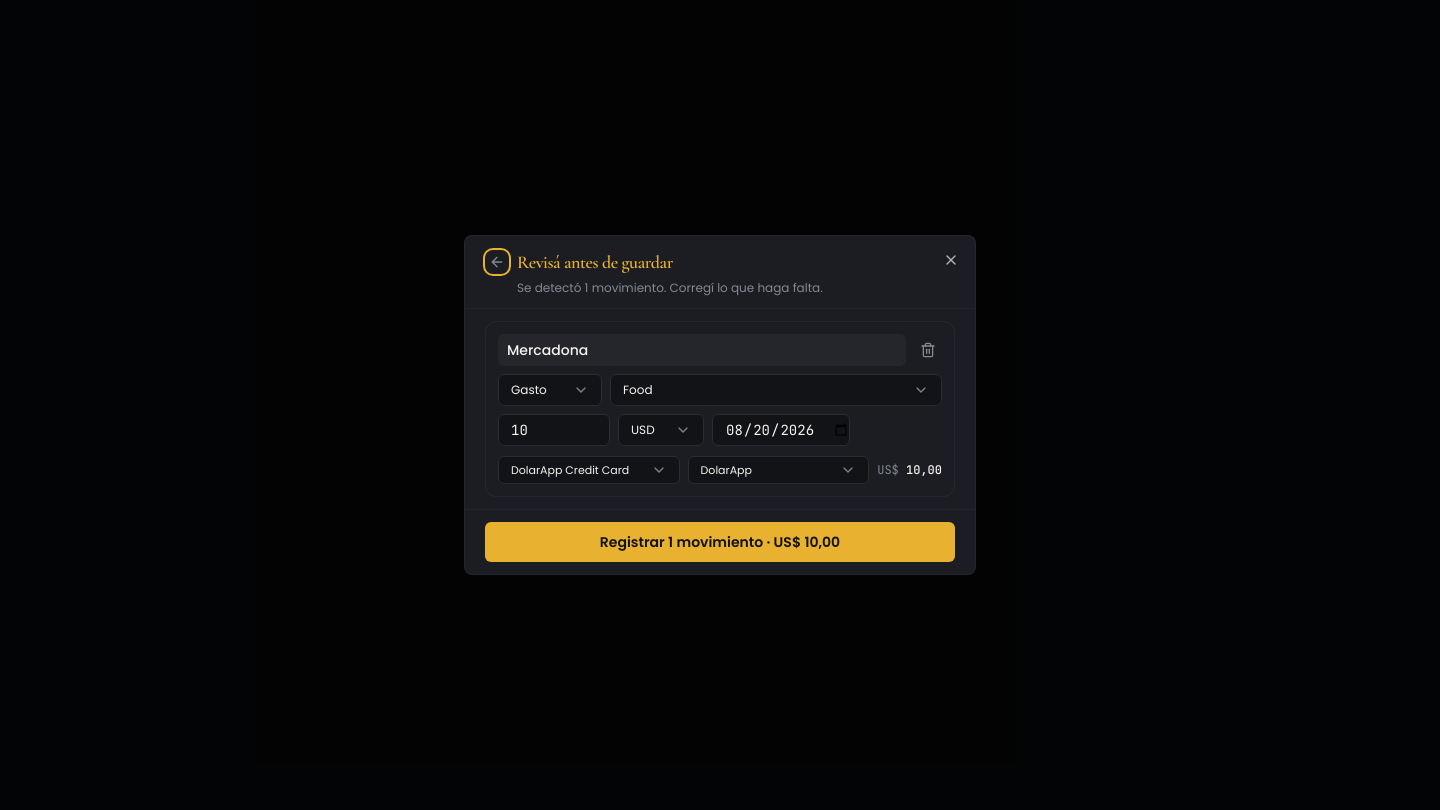
Test: ReviewExtractedSheet › lo descartado se puede recuperar
Press the mouse on the element showing "Mercadona" at [720, 409], box 485,321 -> 955,497
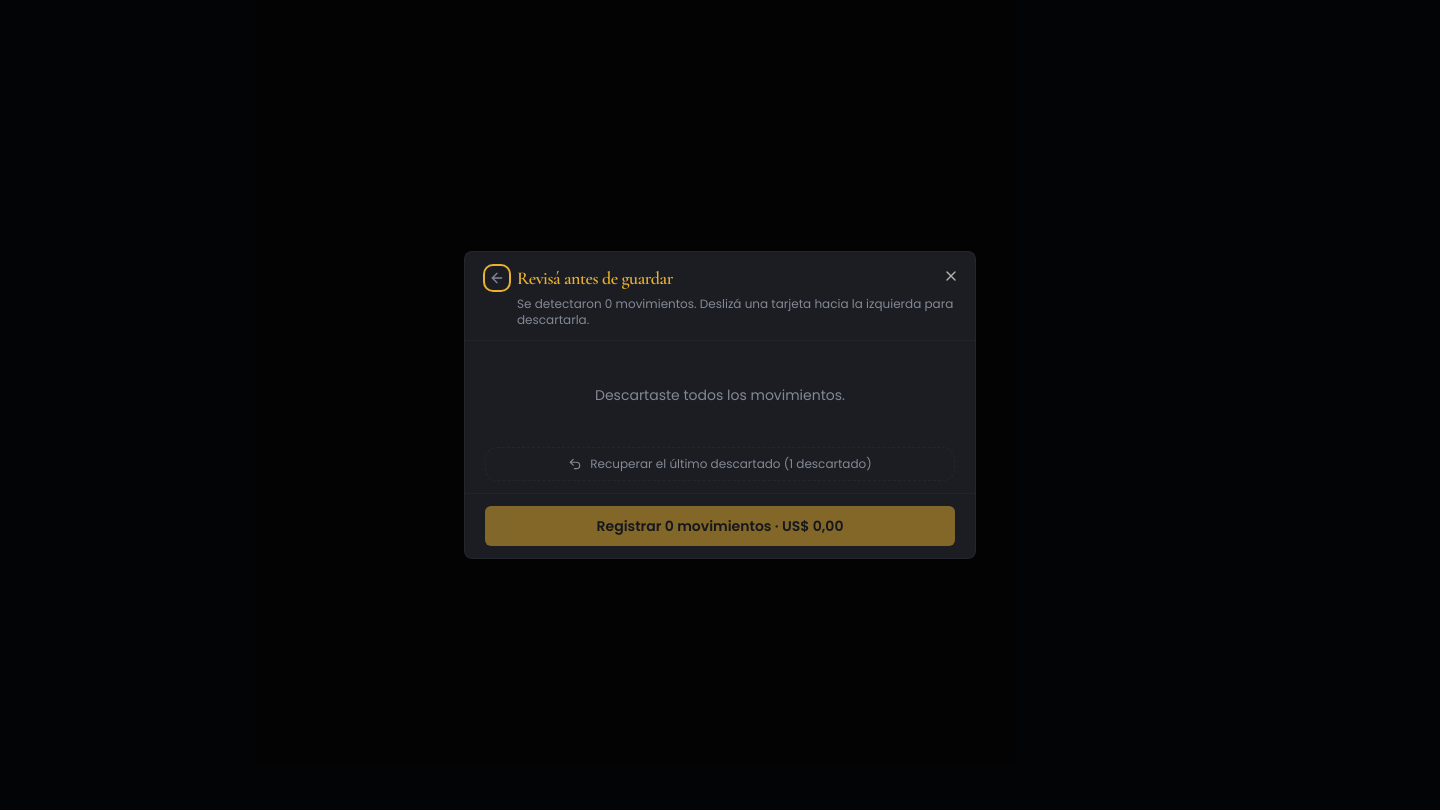
Click the button "Recuperar el último descartado (1 descartado)".
click(720, 464)  # box 485,447 -> 955,481
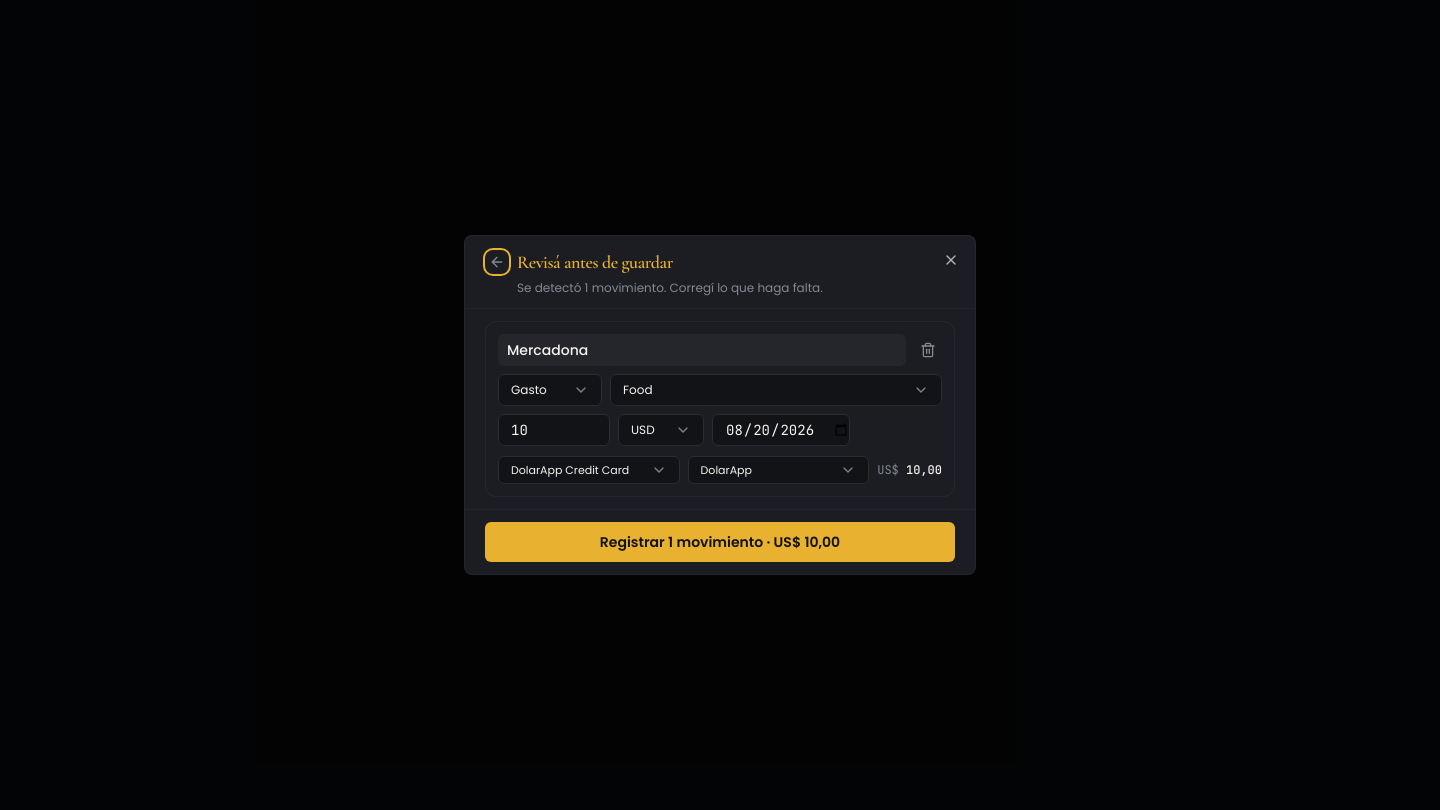
Expected: the field showing "Mercadona" is shown, 498,334 -> 906,366
